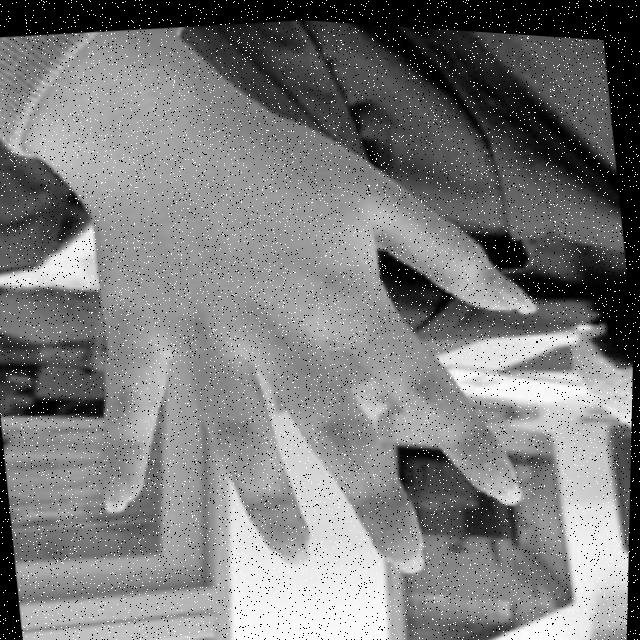hand: (55, 88, 576, 615)
